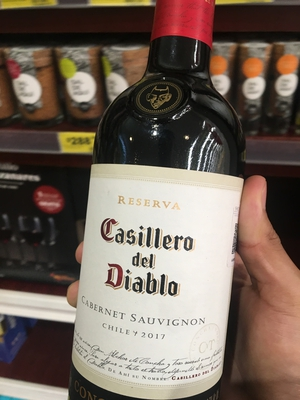casillero del diablo cabernet sauvignon: (67, 6, 250, 400)
